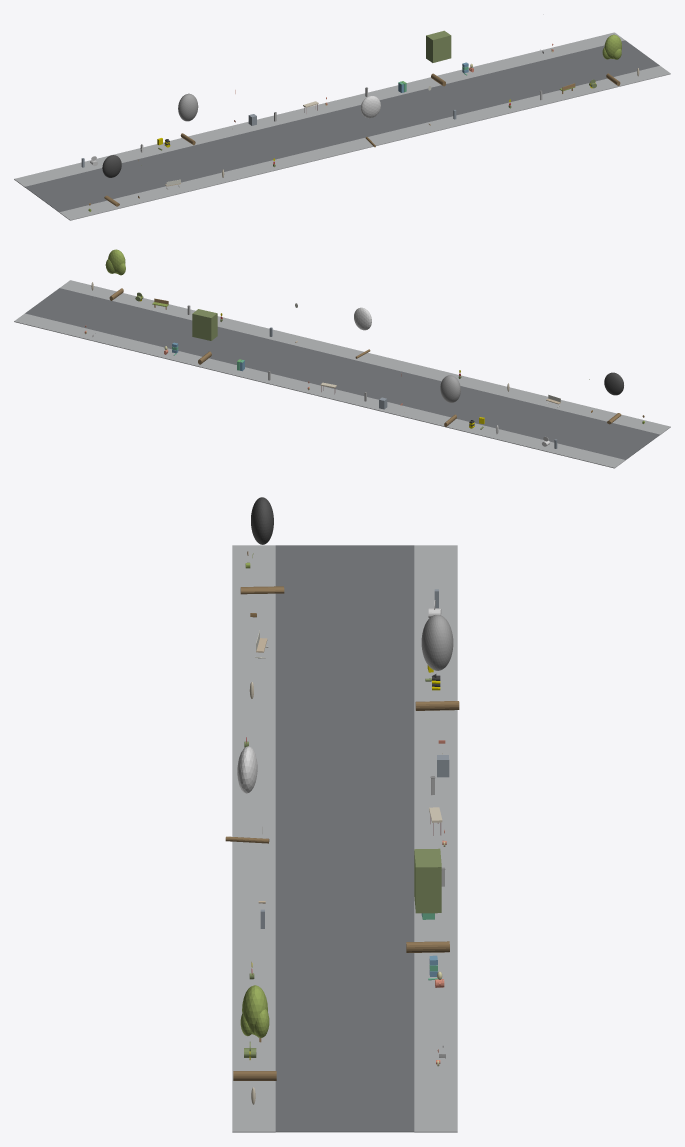
The picture shows the model from 3 angles, top to bottom: view 1: azimuth 30°, elevation 25°; view 2: azimuth 150°, elevation 25°; view 3: azimuth 270°, elevation 25°; orthographic projection. The views are drawn at different scales.
Visible parts, largest first — view 1: road_slab, sidewalk_left, sidewalk_right, inst_0015, inst_0013, inst_0016, inst_0012, inst_0014; view 2: road_slab, sidewalk_right, sidewalk_left, inst_0015, inst_0013, inst_0016, inst_0012, inst_0014; view 3: road_slab, sidewalk_left, sidewalk_right, inst_0015, inst_0013, inst_0016, inst_0012, inst_0014.
Boxes of the visible parts, bbox=[...] form: road_slab: bbox=[25, 40, 659, 212]; sidewalk_left: bbox=[59, 66, 670, 220]; sidewalk_right: bbox=[14, 32, 624, 187]; inst_0015: bbox=[426, 30, 451, 86]; inst_0013: bbox=[178, 93, 198, 145]; inst_0016: bbox=[602, 34, 621, 85]; inst_0012: bbox=[102, 155, 121, 206]; inst_0014: bbox=[360, 96, 380, 147]; road_slab: bbox=[25, 288, 659, 460]; sidewalk_right: bbox=[14, 313, 625, 468]; sidewalk_left: bbox=[60, 280, 670, 434]; inst_0015: bbox=[192, 309, 217, 364]; inst_0013: bbox=[440, 375, 460, 426]; inst_0016: bbox=[105, 249, 125, 300]; inst_0012: bbox=[604, 372, 623, 424]; inst_0014: bbox=[354, 307, 371, 358]; road_slab: bbox=[275, 545, 414, 1132]; sidewalk_left: bbox=[232, 545, 275, 1132]; sidewalk_right: bbox=[414, 545, 457, 1132]; inst_0015: bbox=[406, 848, 449, 952]; inst_0013: bbox=[415, 614, 459, 710]; inst_0016: bbox=[233, 985, 276, 1080]; inst_0012: bbox=[240, 497, 284, 594]; inst_0014: bbox=[225, 746, 269, 843].
Bounding box in the file's own units: 80 × 6.08 × 13.47.
